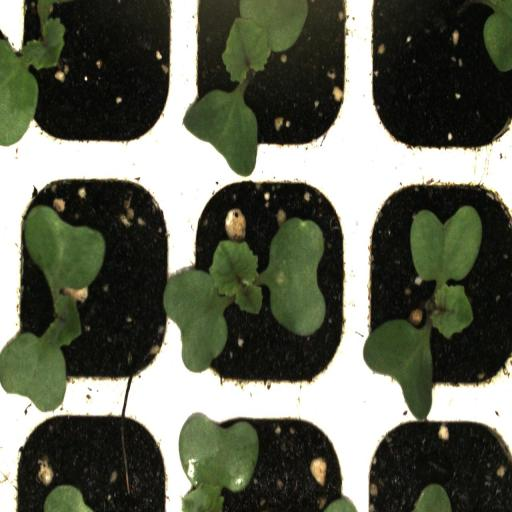seedling: (2, 162, 180, 404), (181, 161, 355, 402), (356, 165, 512, 403), (181, 0, 358, 162), (1, 0, 180, 156)
